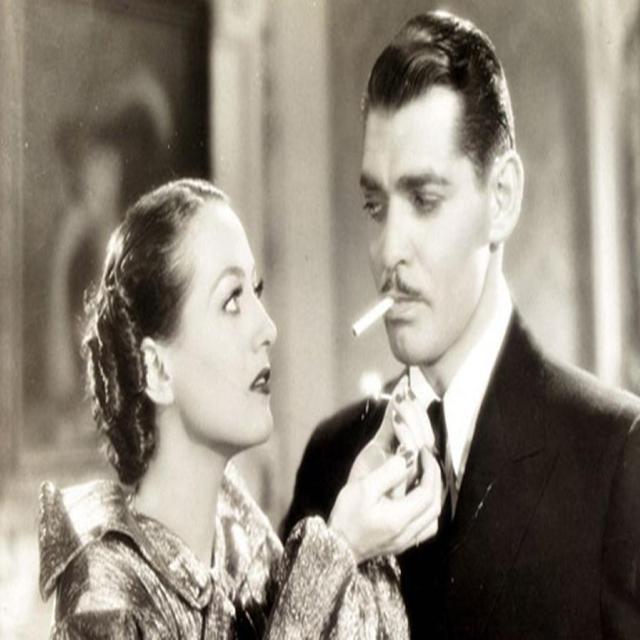smoking: (320, 19, 523, 466)
